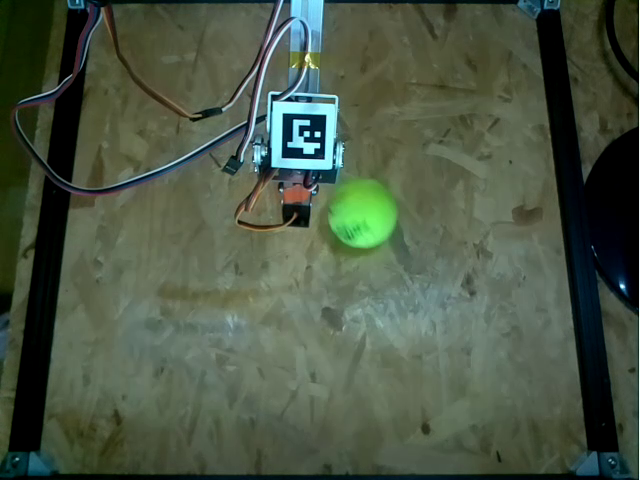tennis_ball: (328, 181, 399, 247)
